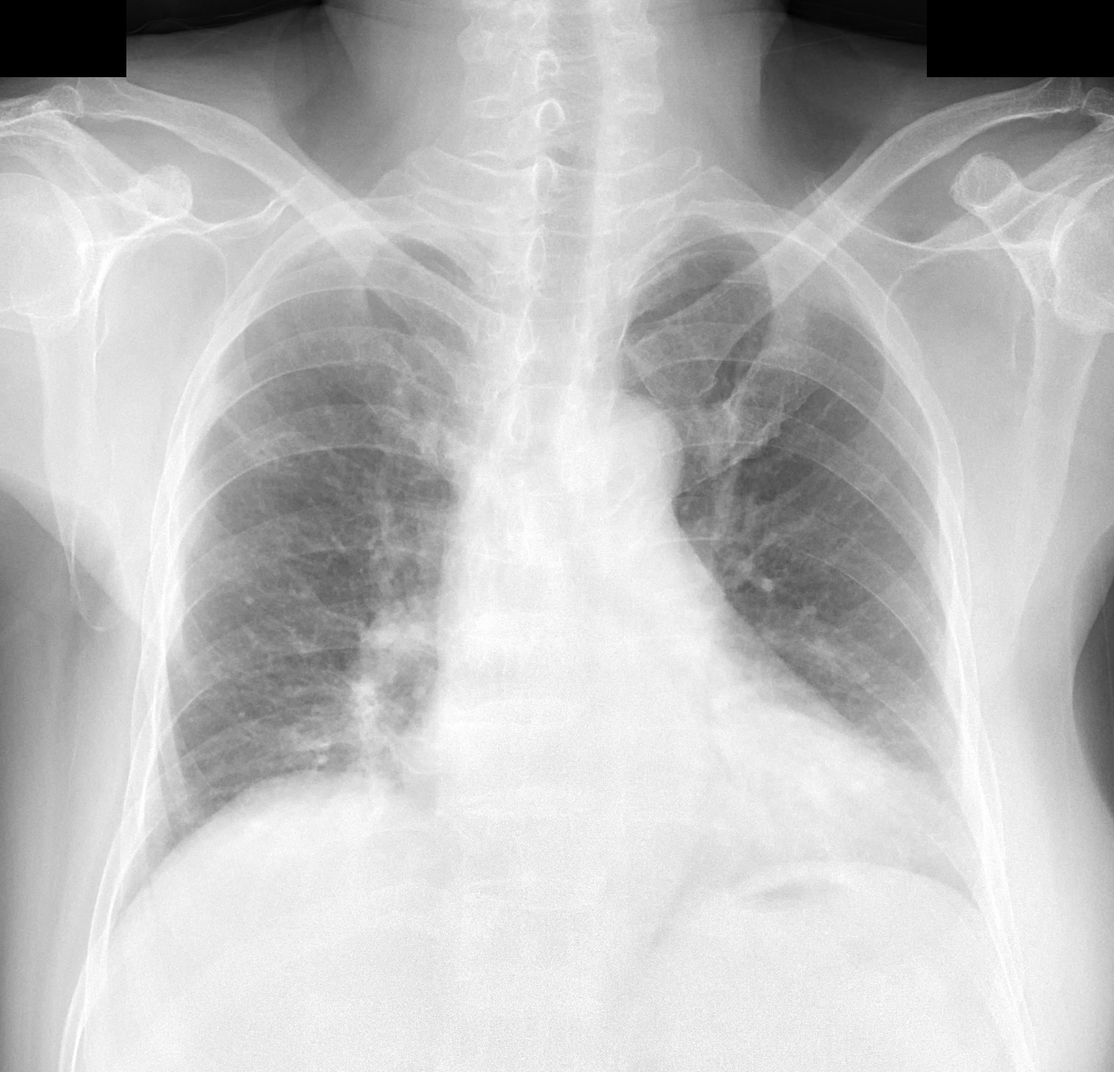Aortic enlargement: (553, 387, 684, 509)
Cardiomegaly: (389, 702, 919, 879)
Pleural thickening: (636, 248, 684, 291)
Pulmonary fibrosis: (204, 379, 299, 471)
